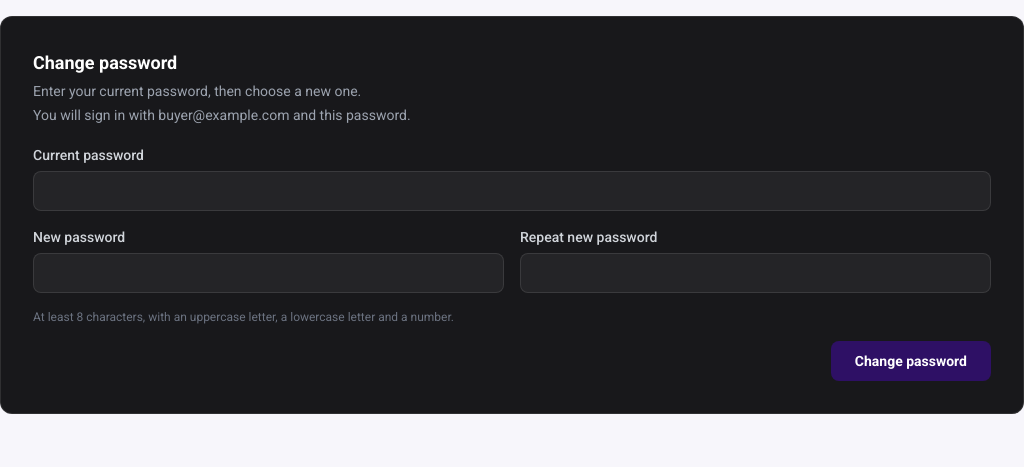
Test case: ProfilePasswordCard › shows the server message when saving fails
In the password field with id "current-password": coordinates (512, 191) 33,171 -> 991,211, type "nope"
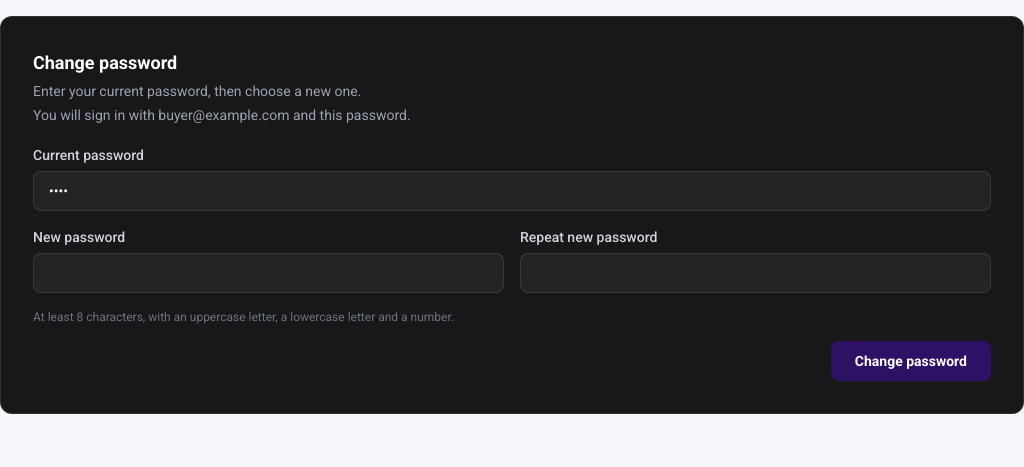
In the password field with id "new-password": coordinates (268, 273) 33,253 -> 504,293, type "Secret123"
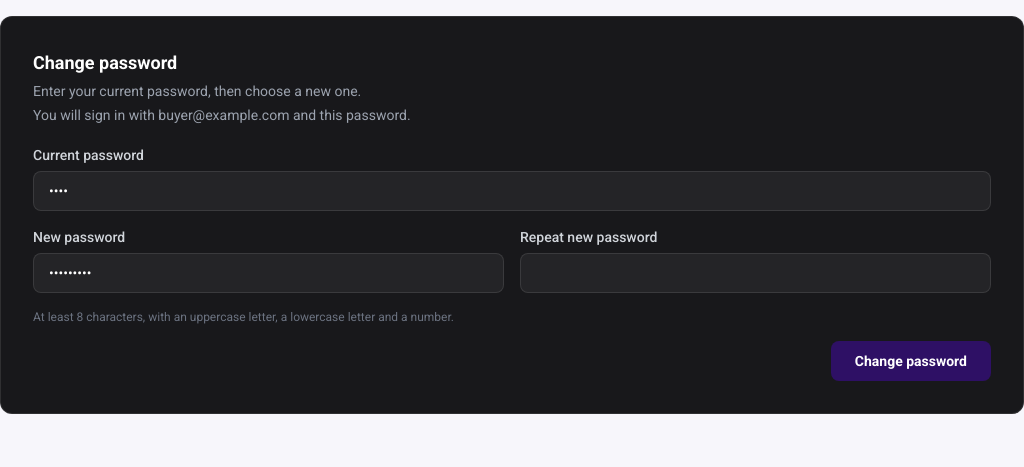
In the password field with id "confirm-password": coordinates (756, 273) 520,253 -> 991,293, type "Secret123"
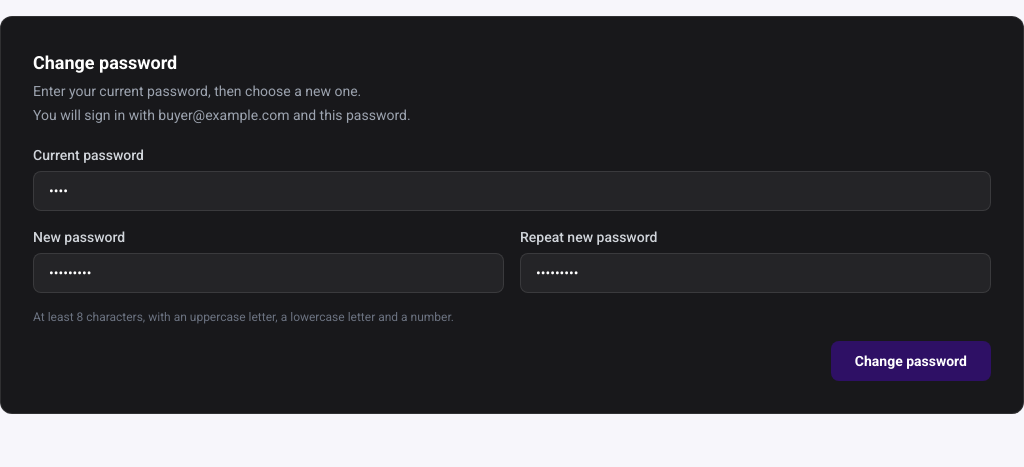
Submit the form, box 33,145 -> 991,381
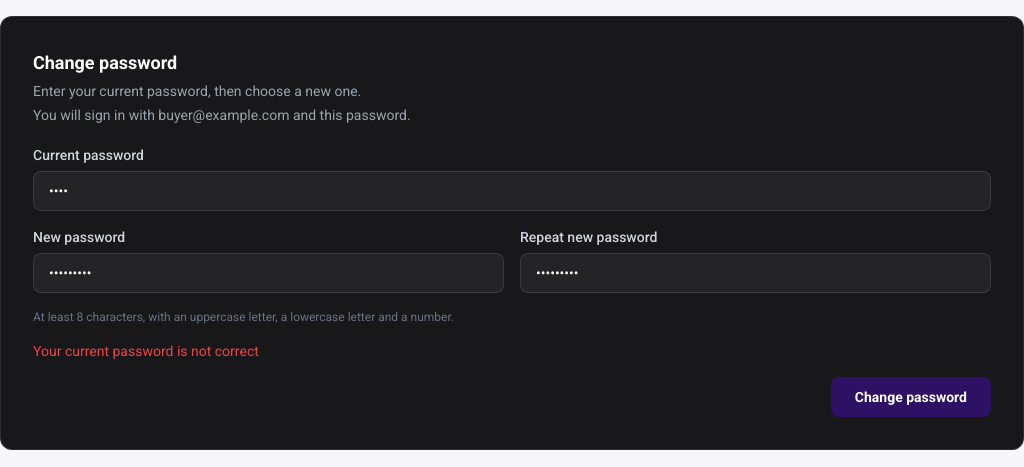
Now the message with test id "profile-password-error" reads "Your current password is not correct", box 33,343 -> 259,359
